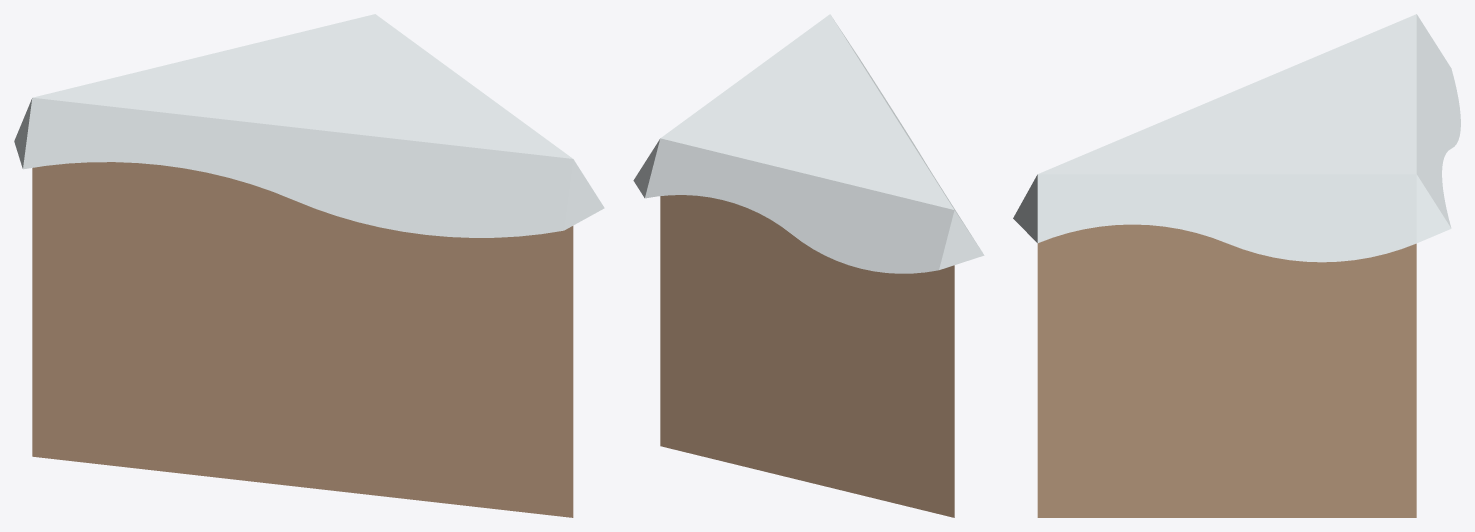
3 renders of one model, left to right at view 1: azimuth 30°, elevation 25°; view 2: azimuth 150°, elevation 25°; view 3: azimuth 270°, elevation 25°, orthographic. The views are drawn at different scales.
Visible parts, largest first — view 1: blockSnowCornerLarge; view 2: blockSnowCornerLarge; view 3: blockSnowCornerLarge.
Part boxes in pixels (x1,y1,x2,y2): blockSnowCornerLarge: (14,14,604,517); blockSnowCornerLarge: (633,14,984,517); blockSnowCornerLarge: (1013,14,1460,517).
Size of the model in its own units: 1.18 by 1 by 1.18.
